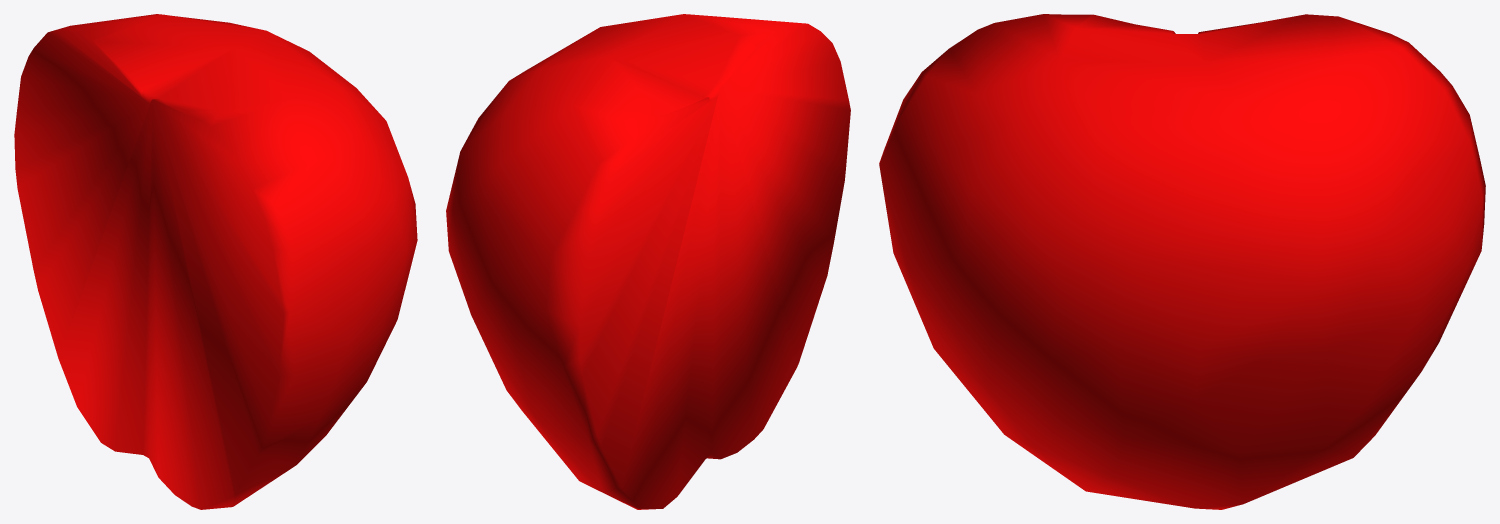
Rendered from apple_right.obj.
3 renders of one model, left to right at view 1: azimuth 30°, elevation 25°; view 2: azimuth 150°, elevation 25°; view 3: azimuth 270°, elevation 25°, orthographic. The views are drawn at different scales.
Visible parts, largest first — view 1: Apple.002; view 2: Apple.002; view 3: Apple.002.
Boxes of the visible parts, x1,y1,x2,y2 form: Apple.002: (14,14,417,509); Apple.002: (446,14,850,509); Apple.002: (879,14,1485,509).
Bounding box in the file's own units: 0.0604 × 0.1028 × 0.1251.
